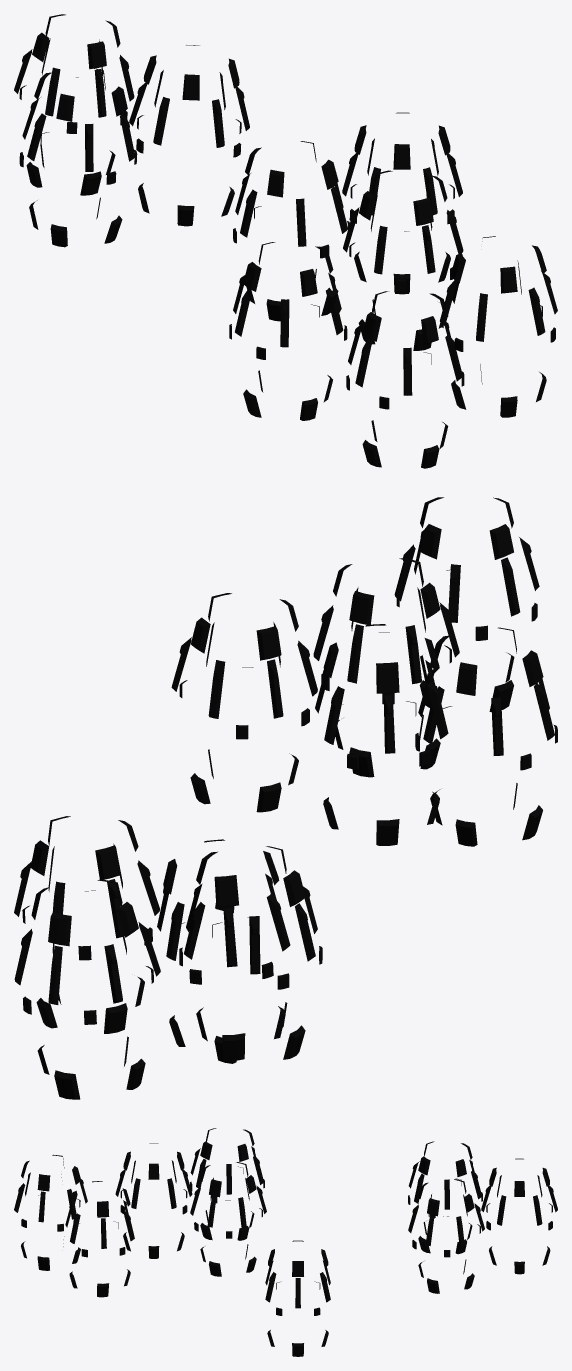
The model's file is prop_static_yao_container_01_08_0.glb.
3 renders of one model, top to bottom at view 1: azimuth 30°, elevation 25°; view 2: azimuth 150°, elevation 25°; view 3: azimuth 270°, elevation 25°, orthographic. The views are drawn at different scales.
Parts seen in each view (by area): view 1: yao_container_01_08_LOD0; view 2: yao_container_01_08_LOD0; view 3: yao_container_01_08_LOD0.
Part boxes in pixels (x1,y1,x2,y2): yao_container_01_08_LOD0: (14, 14, 557, 468); yao_container_01_08_LOD0: (14, 497, 557, 1099); yao_container_01_08_LOD0: (14, 1128, 557, 1356).
Size of what is drawn, in the model's own units: 5.12 by 5.79 by 14.79.
Materials: 1 (1 with a texture image).
